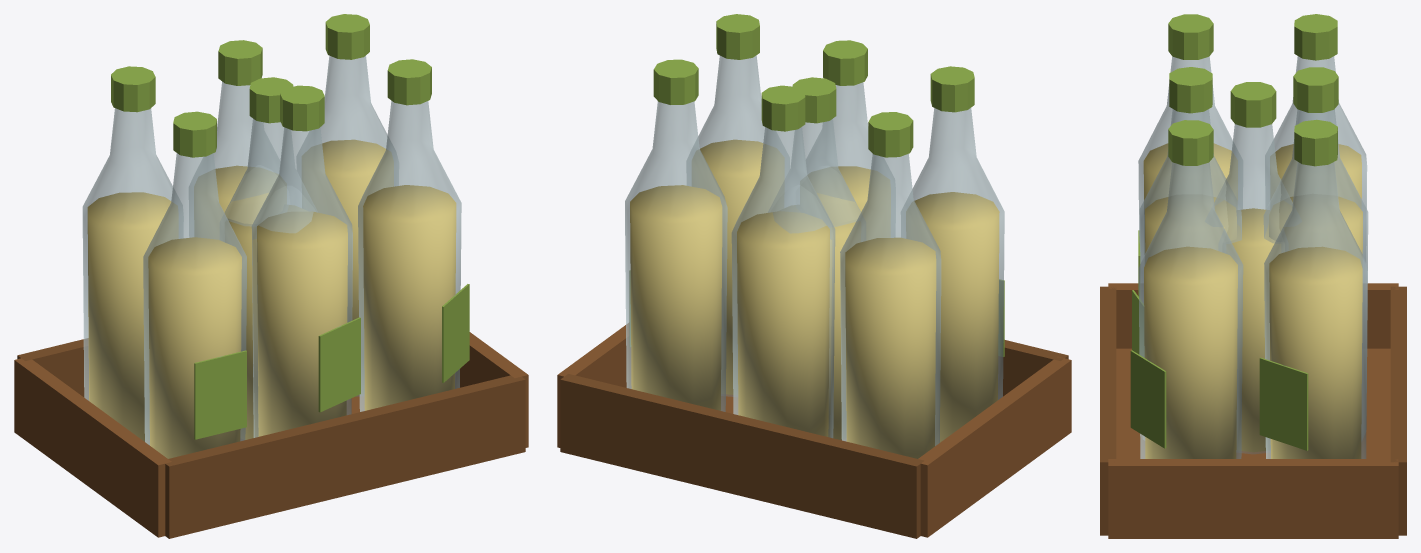
The model's file is Proc_SoybeanOil.fbx.
3 views of the same model, side by side, from view 1: azimuth 30°, elevation 25°; view 2: azimuth 150°, elevation 25°; view 3: azimuth 270°, elevation 25° (orthographic).
Visible parts, largest first — view 1: Proc_SoybeanOil__Stack, Proc_SoybeanOil; view 2: Proc_SoybeanOil__Stack, Proc_SoybeanOil; view 3: Proc_SoybeanOil__Stack, Proc_SoybeanOil.
Boxes of the visible parts, x1=… form: Proc_SoybeanOil__Stack: x1=14, y1=14, x2=528, y2=538; Proc_SoybeanOil: x1=220, y1=77, x2=317, y2=439; Proc_SoybeanOil__Stack: x1=557, y1=14, x2=1071, y2=538; Proc_SoybeanOil: x1=768, y1=77, x2=865, y2=440; Proc_SoybeanOil__Stack: x1=1100, y1=14, x2=1406, y2=538; Proc_SoybeanOil: x1=1214, y1=82, x2=1292, y2=454.
Size of the model in its own units: 0.214 by 0.203 by 0.152.
